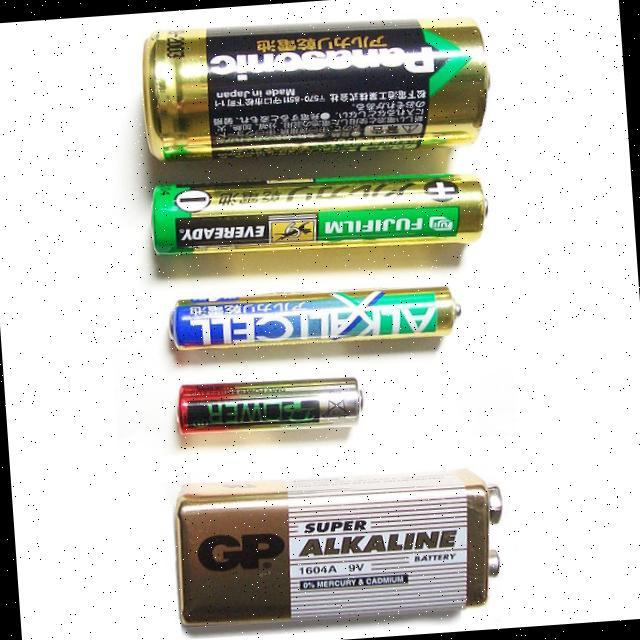9V: (174, 467, 502, 628)
AA: (150, 172, 487, 256)
AAA: (168, 284, 459, 351)
